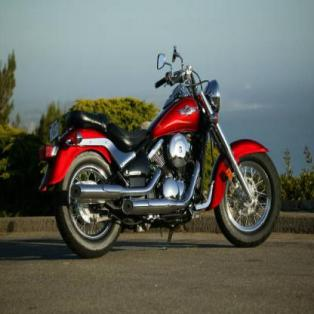Motocicleta: (39, 50, 282, 260)
